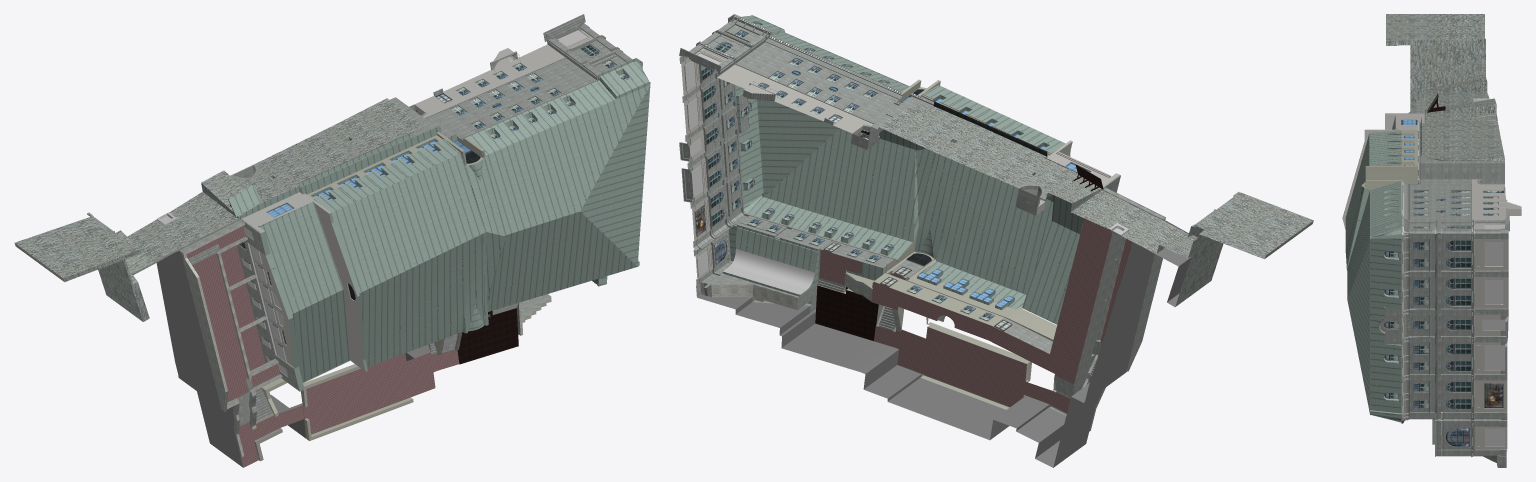
The model's file is Harju_6_1.obj.
3 views of the same model, side by side, from view 1: azimuth 30°, elevation 25°; view 2: azimuth 150°, elevation 25°; view 3: azimuth 270°, elevation 25° (orthographic). The views are drawn at different scales.
Parts seen in each view (by area): view 1: Harju_6_1; view 2: Harju_6_1; view 3: Harju_6_1.
Boxes of the visible parts, left/top/right/bottom form: Harju_6_1: left=14, top=14, right=650, bottom=467; Harju_6_1: left=679, top=14, right=1313, bottom=467; Harju_6_1: left=1342, top=14, right=1521, bottom=467.
Bounding box in the file's own units: 92.29 × 50.47 × 24.13.
